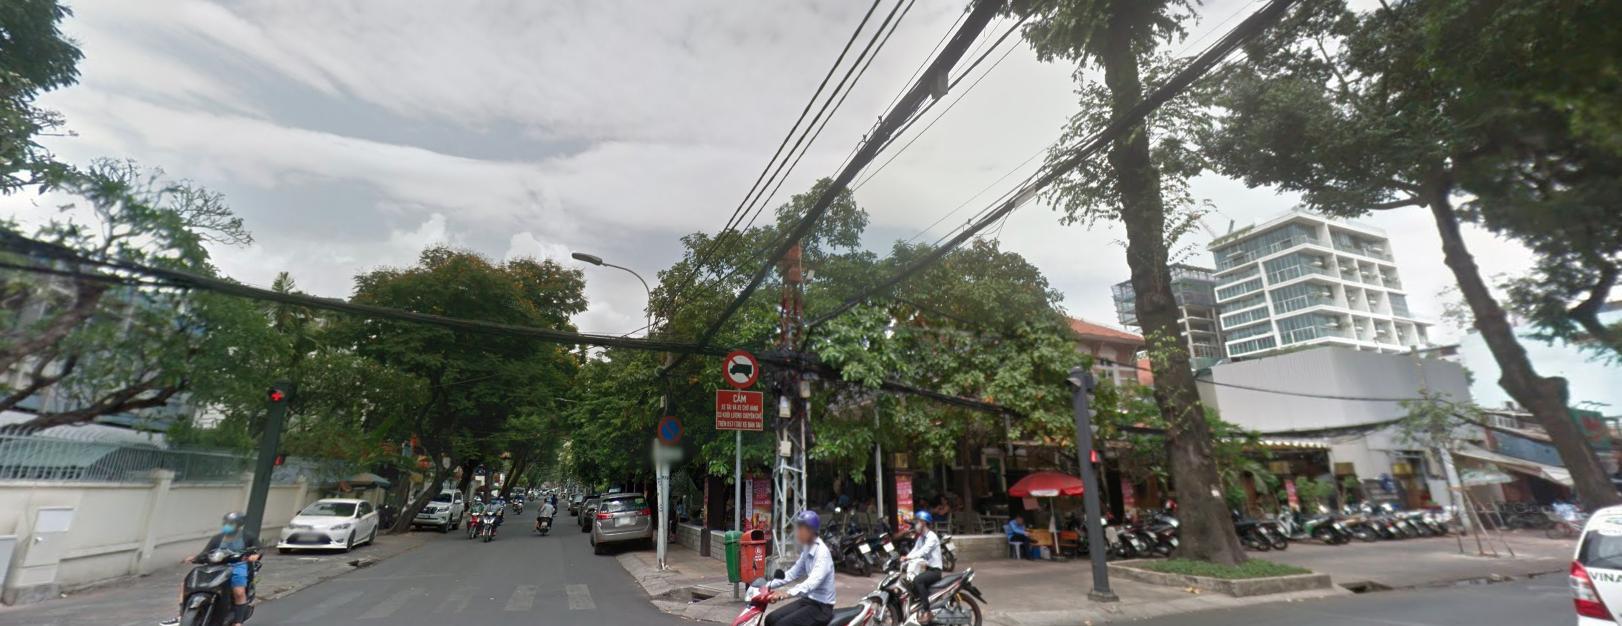Cam con lai: (723, 348, 757, 386)
Cam dung va do: (657, 415, 682, 444)
